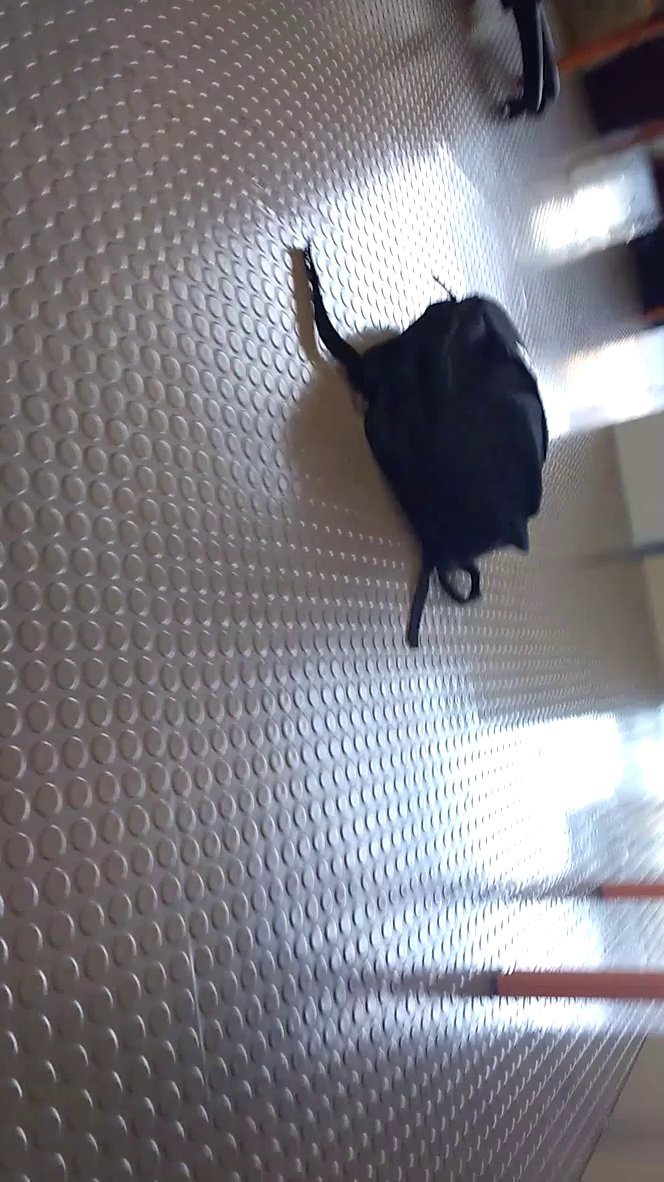bag: (292, 228, 563, 656)
